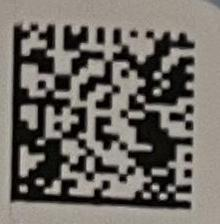datamatrix: (12, 24, 196, 211)
